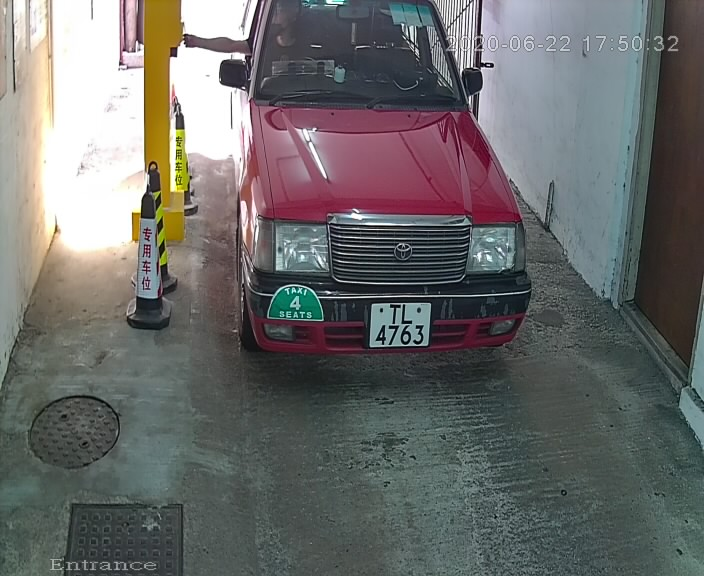taxi: (204, 2, 558, 389)
taxi_mark: (258, 262, 342, 339)
